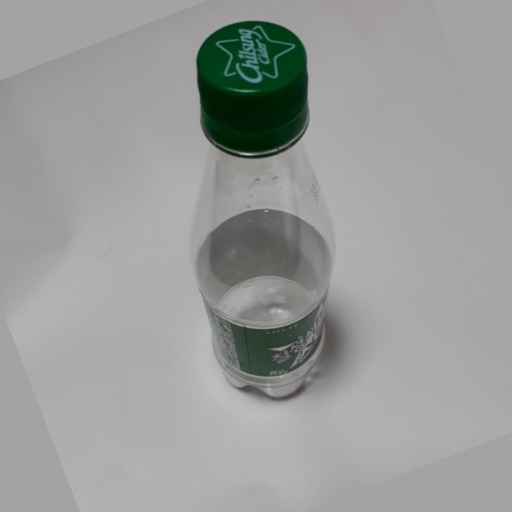Plastic_0: (192, 22, 336, 404)
